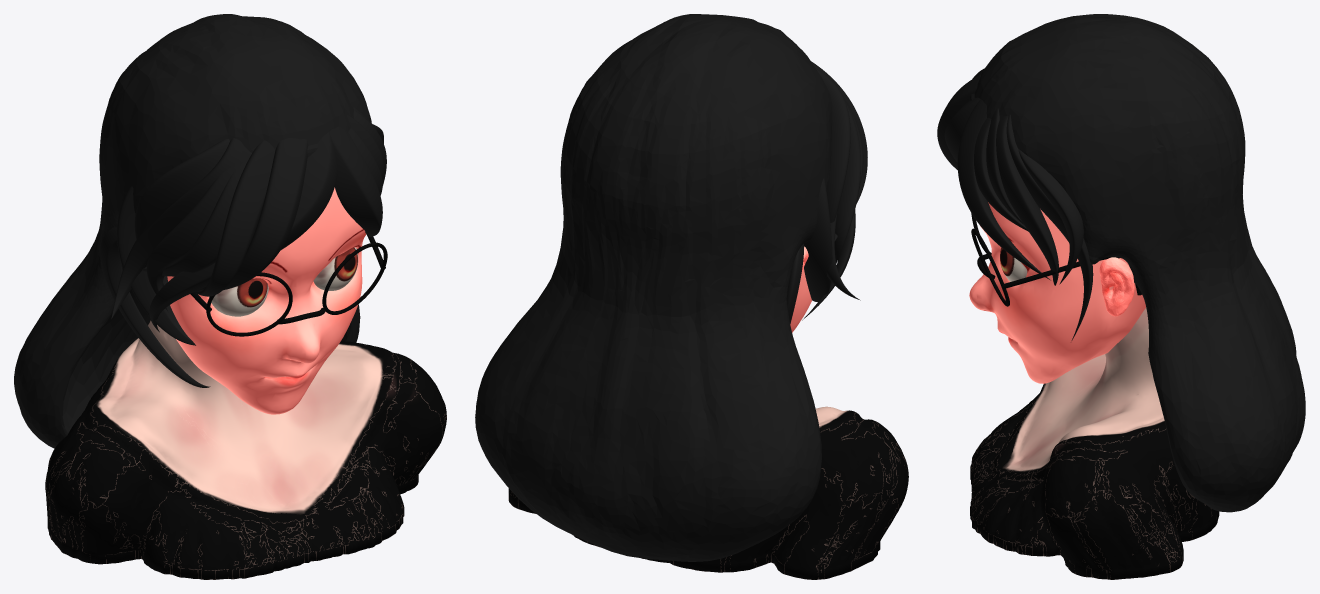
The model's file is avatar-previous-prop.glb.
3 renders of one model, left to right at view 1: azimuth 30°, elevation 25°; view 2: azimuth 150°, elevation 25°; view 3: azimuth 270°, elevation 25°, orthographic. The views are drawn at different scales.
Visible parts, largest first — view 1: Sphere.002, Cylinder, Cube, Sphere, NurbsPath.018; view 2: Sphere.002, Cylinder, Cube; view 3: Sphere.002, Cylinder, Cube, Sphere.001, NurbsPath.018, Sphere.
Boxes of the visible parts, box(x1,y1,x2,y2) form: Sphere.002: box(14, 14, 386, 448); Cylinder: box(45, 320, 446, 579); Cube: box(167, 187, 366, 414); Sphere: box(209, 247, 358, 316); NurbsPath.018: box(190, 234, 387, 336); Sphere.002: box(475, 14, 867, 561); Cylinder: box(508, 406, 908, 579); Cube: box(790, 268, 811, 332); Sphere.002: box(937, 14, 1305, 512); Cylinder: box(970, 307, 1219, 579); Cube: box(969, 202, 1145, 383); Sphere.001: box(1099, 257, 1134, 316); NurbsPath.018: box(971, 213, 1141, 306); Sphere: box(1000, 247, 1027, 284).
Bounding box in the file's own units: 2.74 × 3.31 × 2.34.
Materials: 6 (4 with a texture image).
